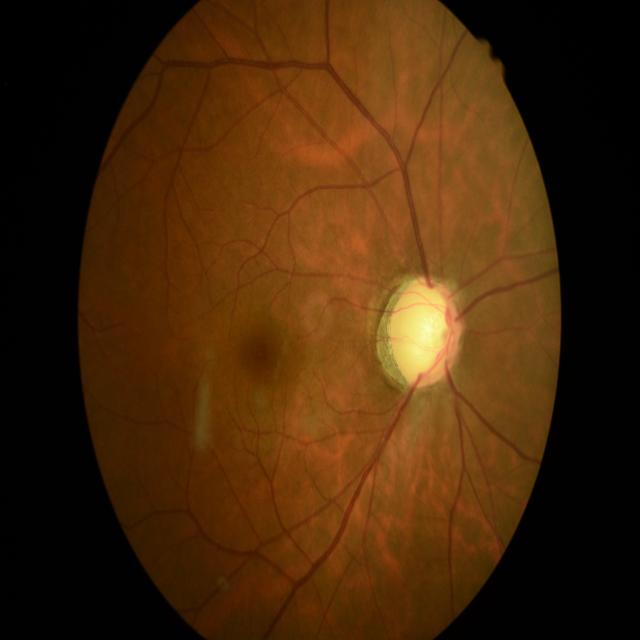cup: (400, 286, 454, 372)
disk: (390, 276, 462, 388)
